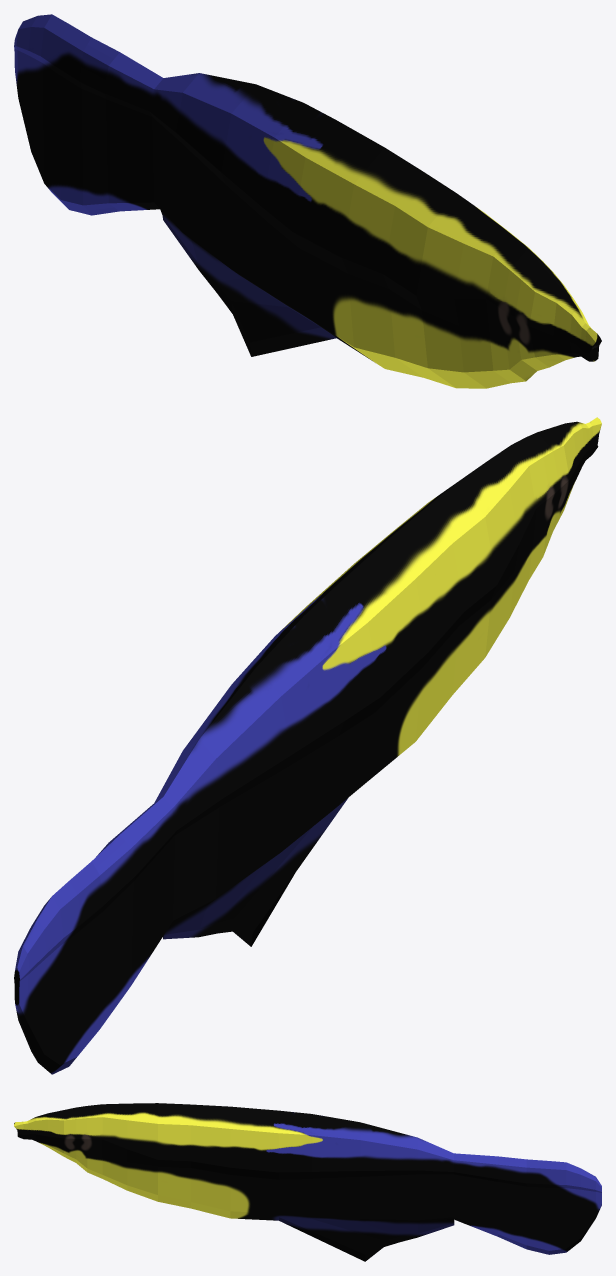
File: wrasse.fbx
The picture shows the model from 3 angles, top to bottom: view 1: azimuth 30°, elevation 25°; view 2: azimuth 150°, elevation 25°; view 3: azimuth 270°, elevation 25°; orthographic projection. The views are drawn at different scales.
Visible parts, largest first — view 1: Cylinder; view 2: Cylinder; view 3: Cylinder.
Boxes of the visible parts, left/top/right/bottom form: Cylinder: left=14, top=14, right=601, bottom=388; Cylinder: left=14, top=417, right=601, bottom=1074; Cylinder: left=14, top=1103, right=601, bottom=1261.
Size of the model in its own units: 70.77 by 240 by 807.
